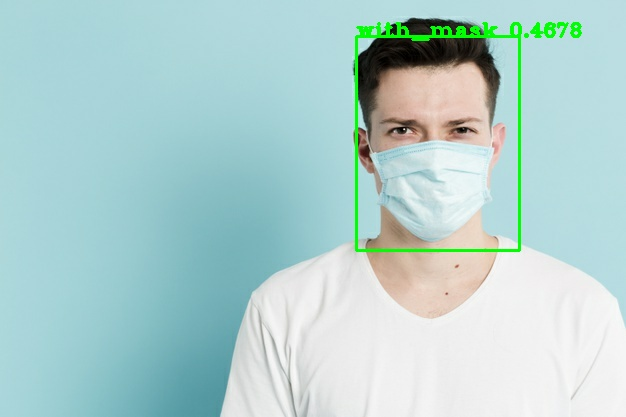with_mask: (330, 17, 523, 251)
